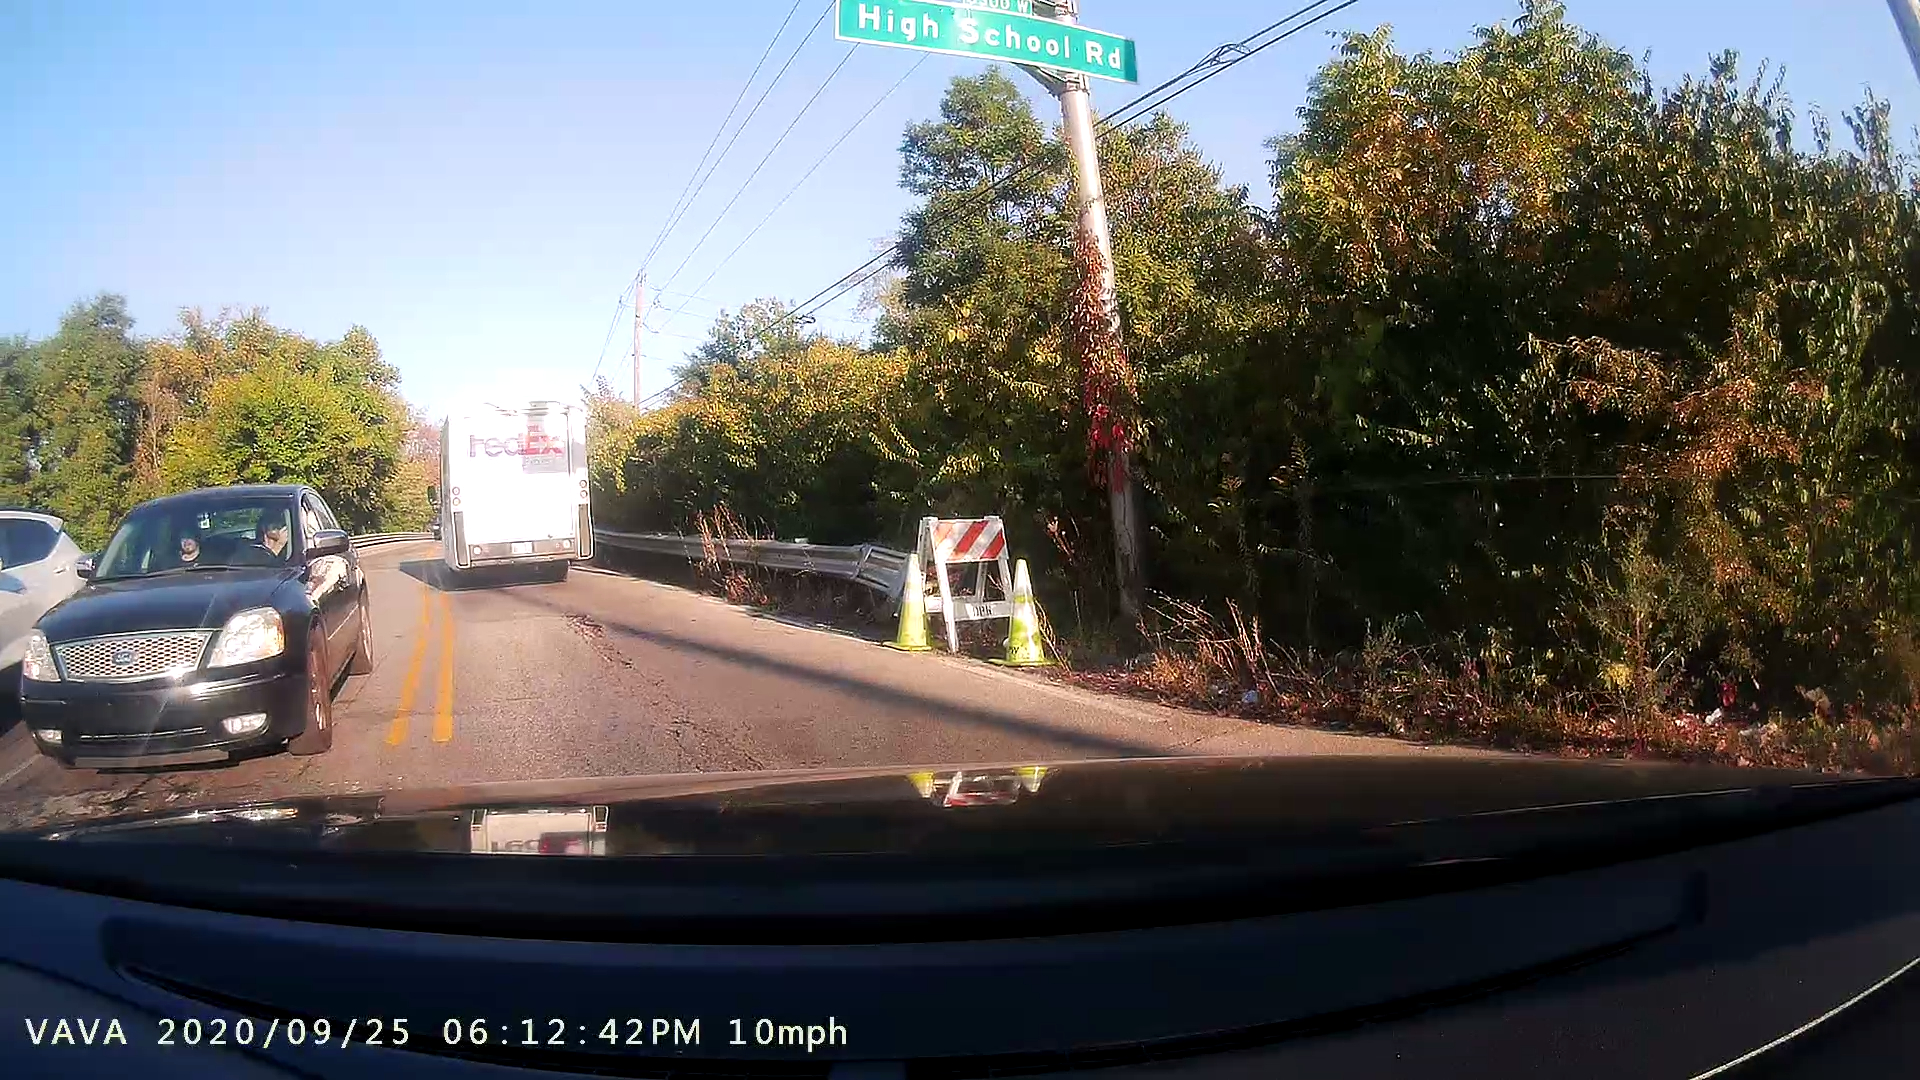const_cone: (980, 554, 1065, 673), (872, 545, 945, 665)
